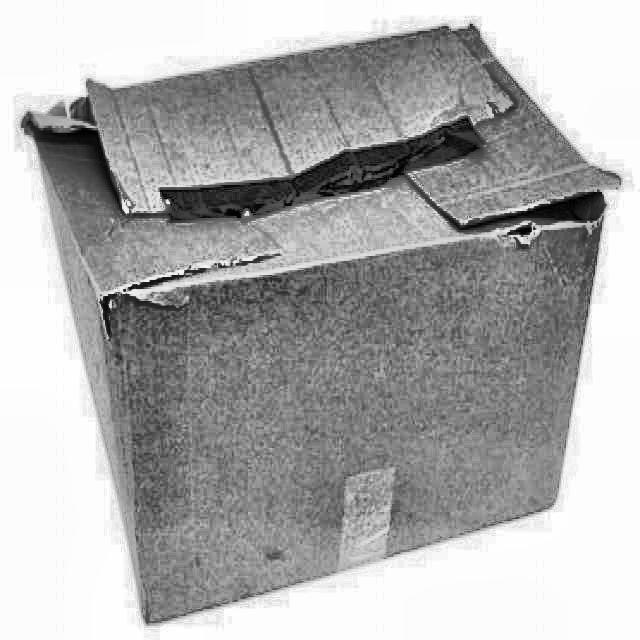box: (15, 9, 636, 639)
hole: (507, 192, 609, 247)
